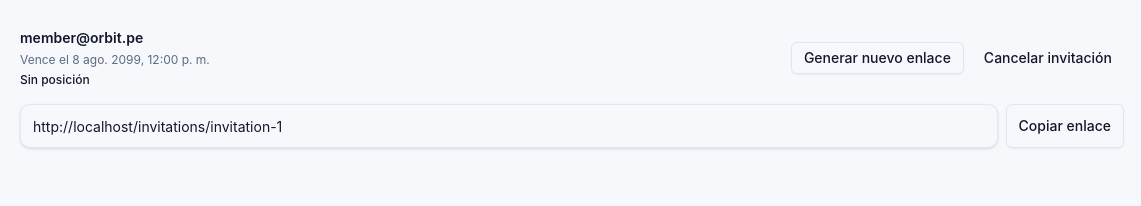
Test: TeamInvitationManager › keeps a legacy invitation visible but requires replacing it manually
The image size is (1141, 206).
Check: the text "Sin posición" is shown, box [20, 72, 90, 87]
What coordinates should you click on to do the following:
click the button "Generar nuevo enlace"
I would click on:
 (877, 58)
Its box is [791, 42, 964, 74].
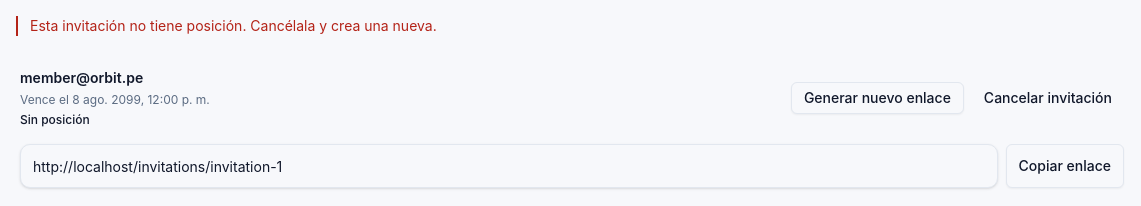
Check: the message reads "Esta invitación no tiene posición. Cancélala y crea una nueva.", box [30, 17, 437, 34]
